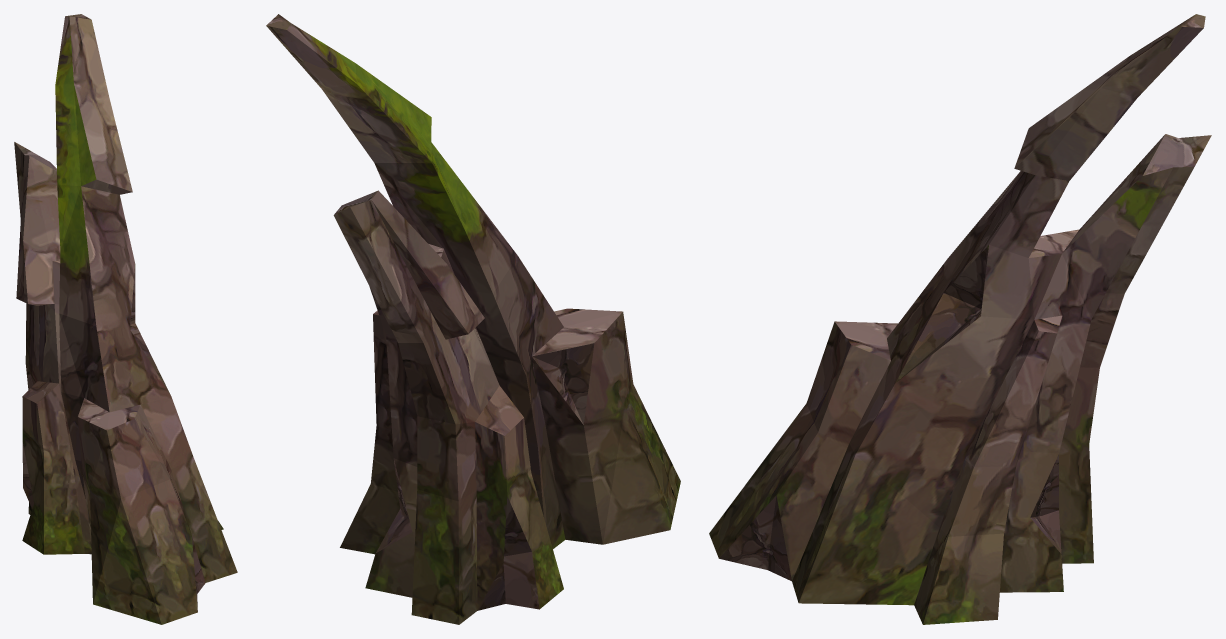
Rendered from LM_CenterPillar03c.FBX.
The picture shows the model from 3 angles, left to right: view 1: azimuth 30°, elevation 25°; view 2: azimuth 150°, elevation 25°; view 3: azimuth 270°, elevation 25°; orthographic projection. The views are drawn at different scales.
Parts seen in each view (by area): view 1: LM_CenterPillar03c; view 2: LM_CenterPillar03c; view 3: LM_CenterPillar03c.
Part boxes in pixels (bbox=[...]): LM_CenterPillar03c: bbox=[14, 14, 237, 624]; LM_CenterPillar03c: bbox=[266, 14, 680, 624]; LM_CenterPillar03c: bbox=[709, 14, 1211, 624].
Size of the model in its own units: 479 by 1169 by 918.
